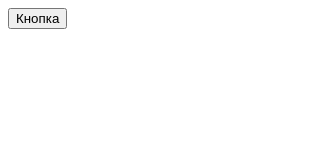
Tooltip › показывается по наведению с задержкой, связан через aria-describedby, скрывается по уходу
Hover over the button at (38, 18), box 8,8 -> 67,29
Wait 250 ms
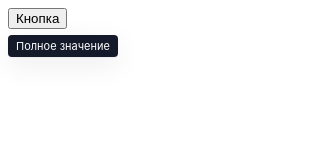
Now the tooltip reads "Полное значение", box 16,39 -> 110,53
Move the pointer off the button, box 8,8 -> 67,29
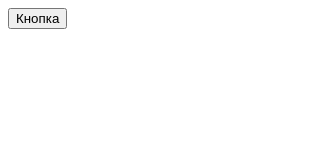
Now the tooltip "Полное значение" is gone
